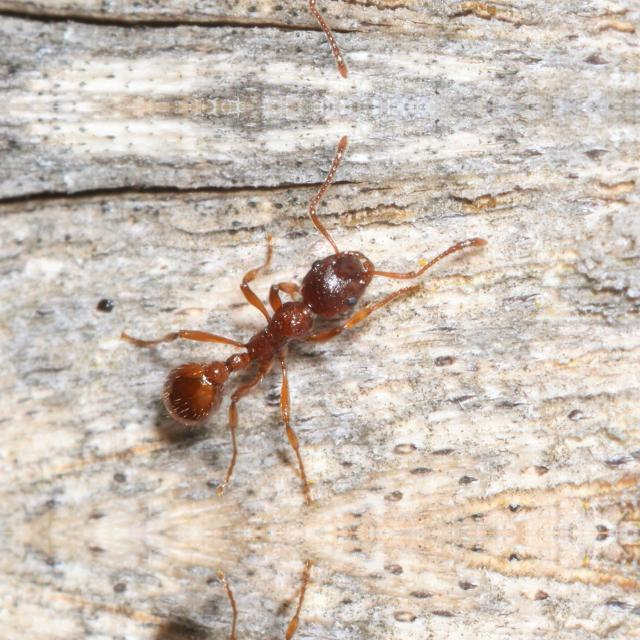Myrmica: (117, 203, 437, 452)
